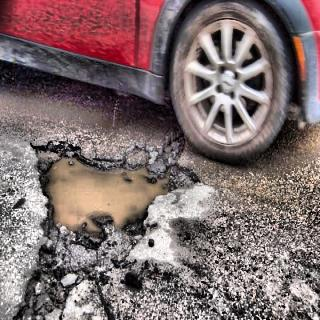pothole: (21, 148, 204, 258)
